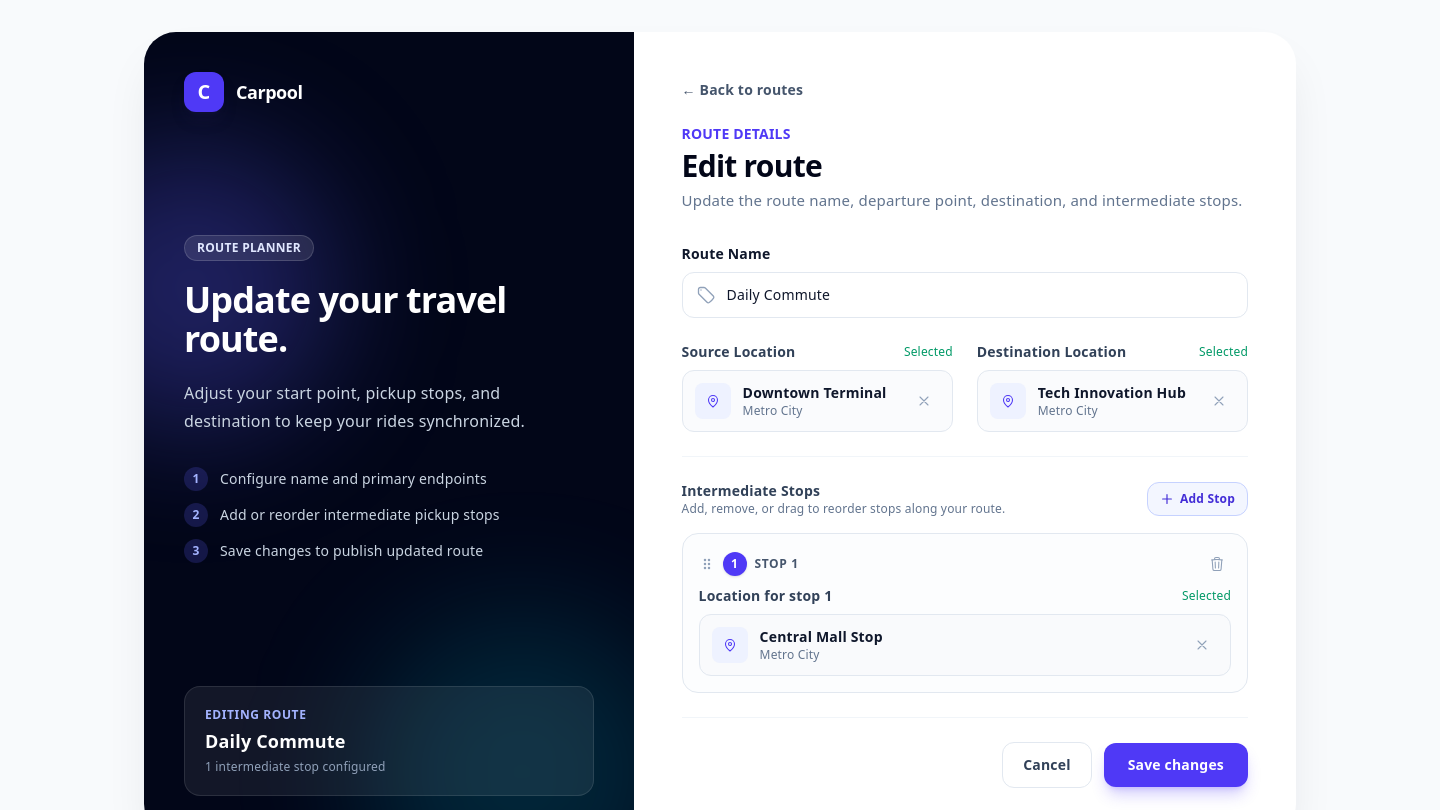
EditRoutePage › shows validation error if route name is cleared
The image size is (1440, 810).
Clear the field showing "Daily Commute": (965, 295) [682,272,1248,318]
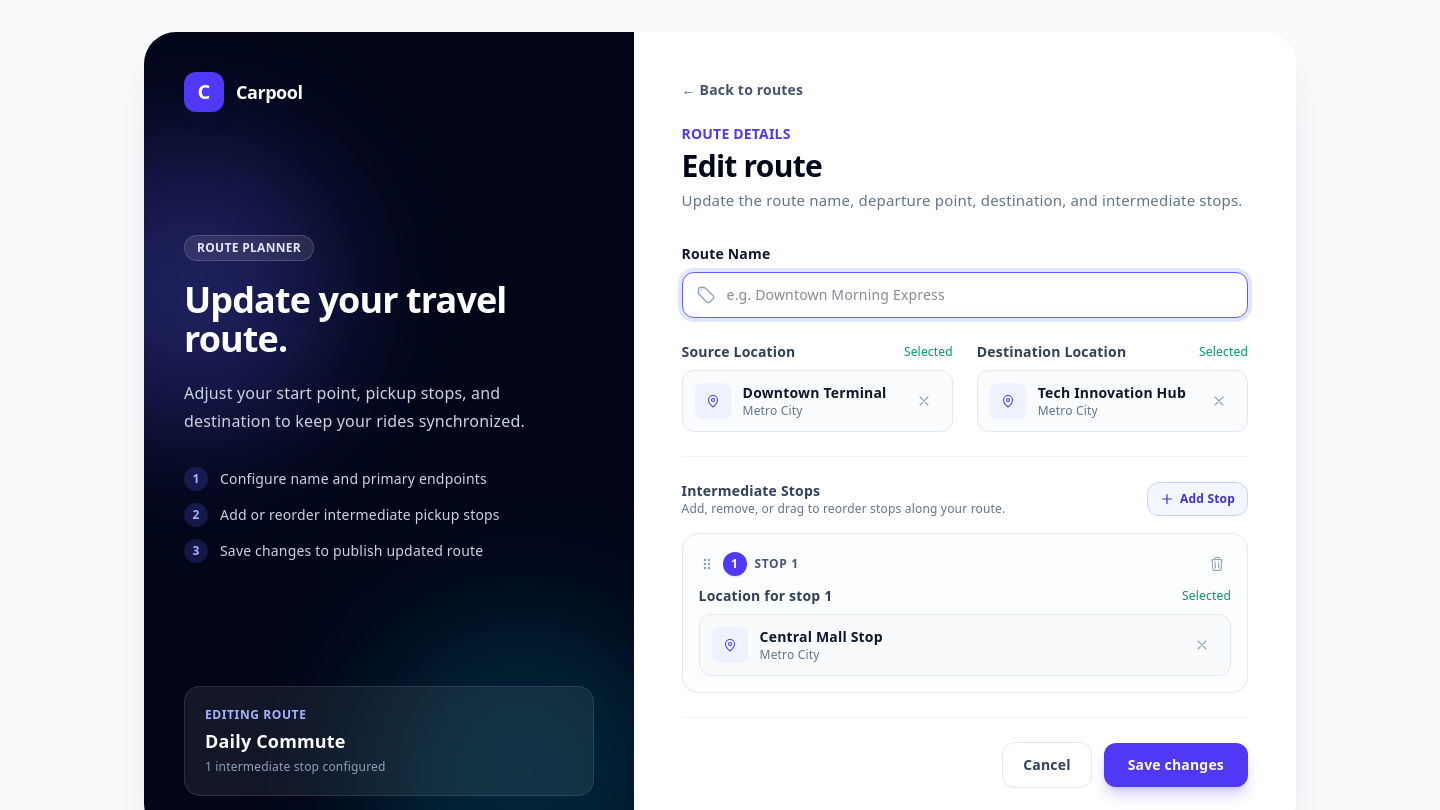
Click the button "Save changes": (1176, 765) [1104,743,1248,787]
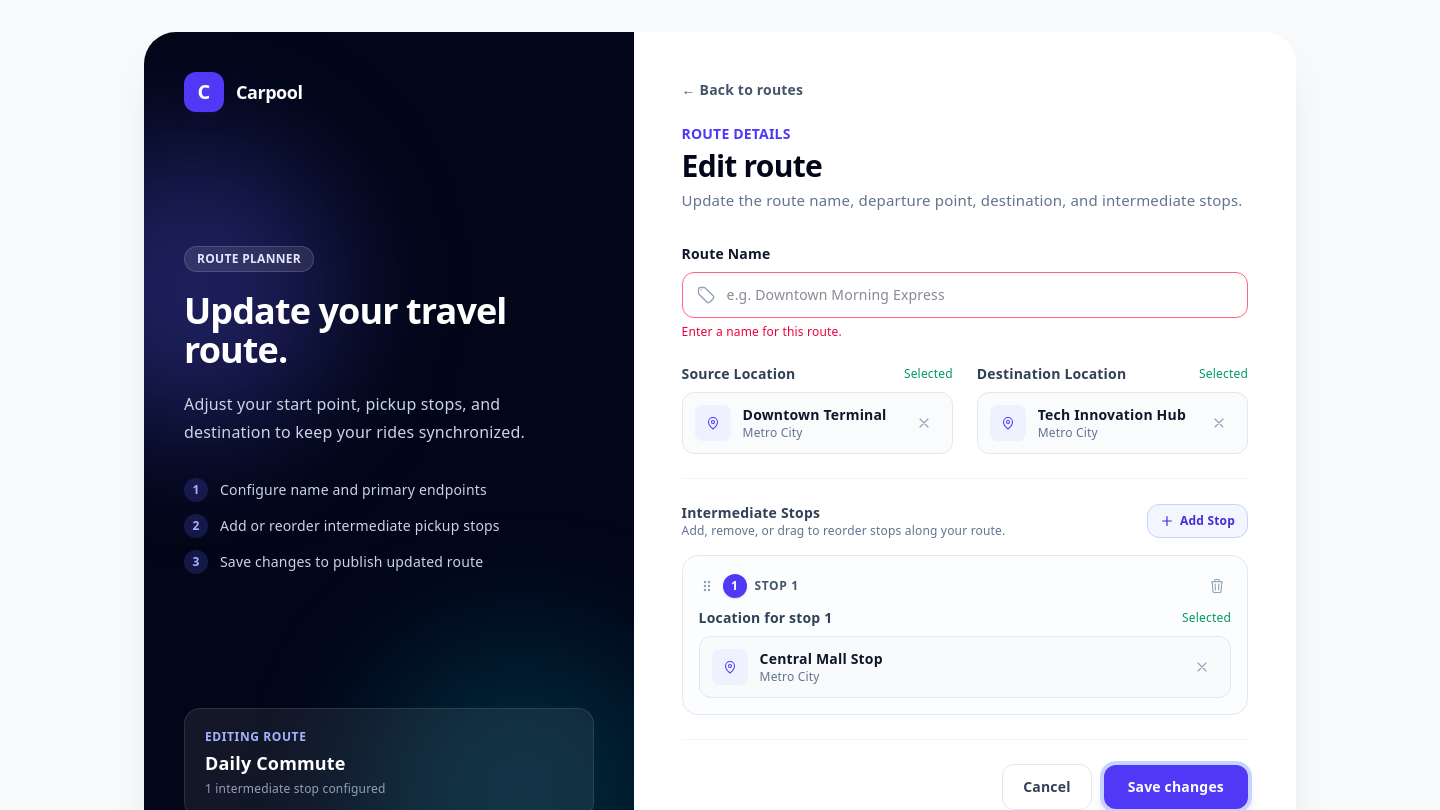
Expected: the text "Enter a name for this route." is shown, [682,323,842,340]
